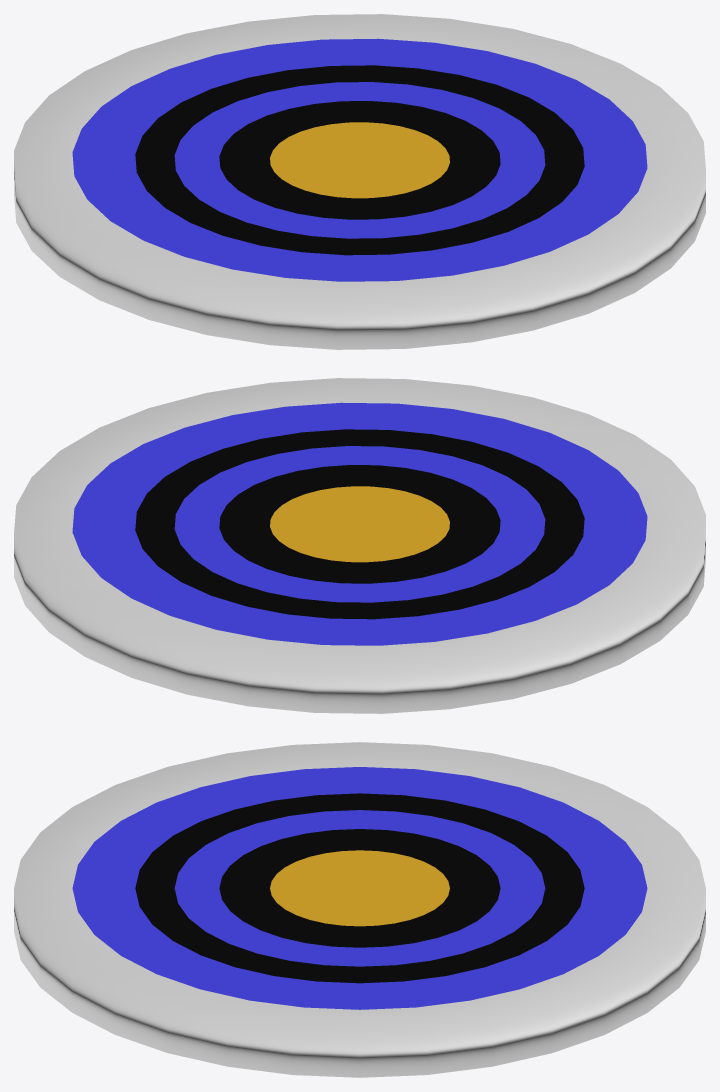
File: B_target.fbx
The picture shows the model from 3 angles, top to bottom: view 1: azimuth 30°, elevation 25°; view 2: azimuth 150°, elevation 25°; view 3: azimuth 270°, elevation 25°; orthographic projection.
Parts seen in each view (by area): view 1: Cylinder; view 2: Cylinder; view 3: Cylinder.
Part boxes in pixels (bbox=[...]): Cylinder: bbox=[14, 14, 705, 349]; Cylinder: bbox=[14, 378, 705, 713]; Cylinder: bbox=[14, 742, 705, 1077].
Size of the model in its own units: 200 by 13.8 by 200.
